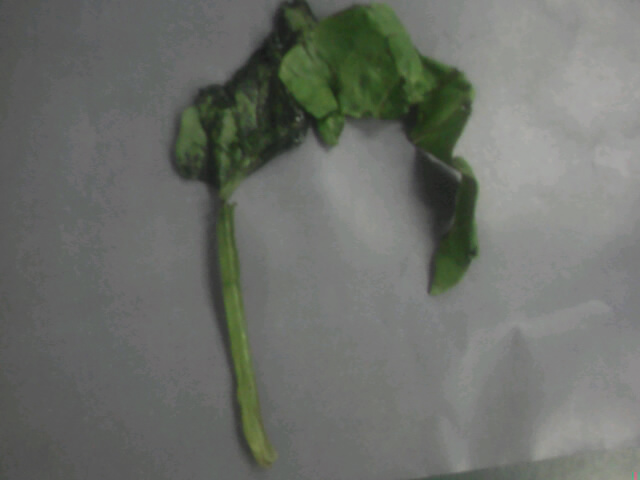yellow: (162, 4, 491, 322)
